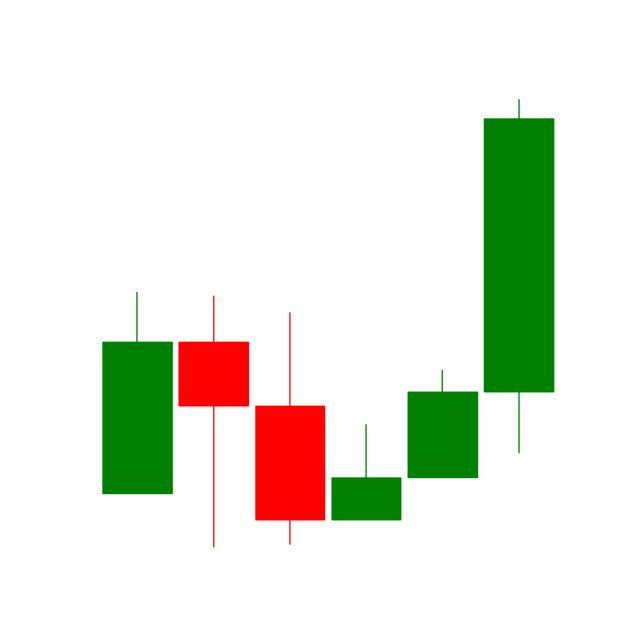Marubozu: (403, 368, 481, 479)
